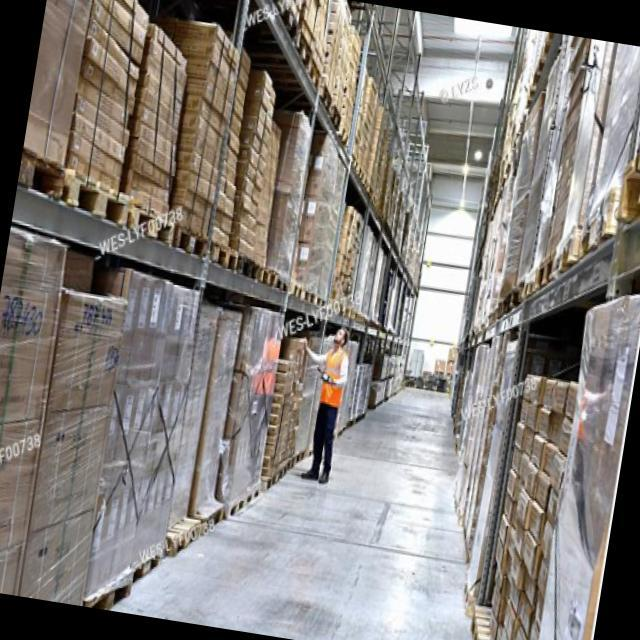boots: (299, 462, 334, 487)
vest: (317, 345, 351, 412)
